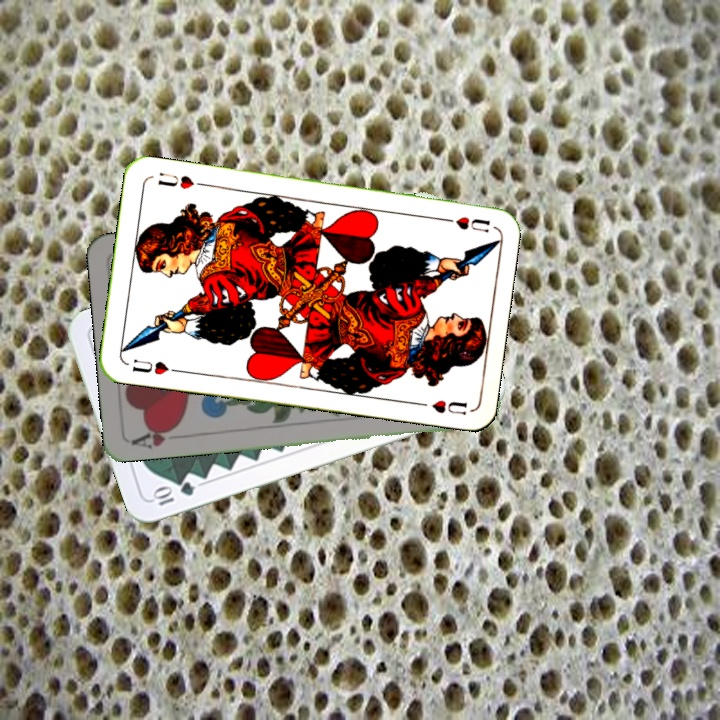G10: (149, 477, 198, 509)
HA: (128, 421, 187, 451)
HU: (436, 212, 493, 235), (128, 355, 182, 378)
